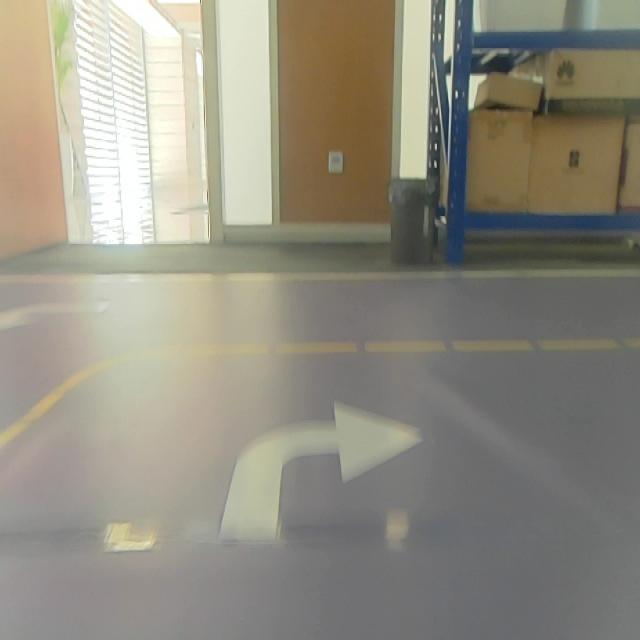left_lane: (1, 369, 90, 449)
